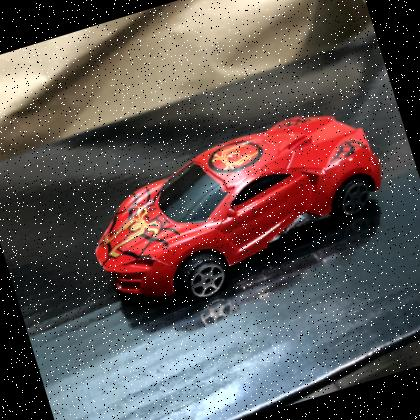Car: (95, 117, 383, 300)
